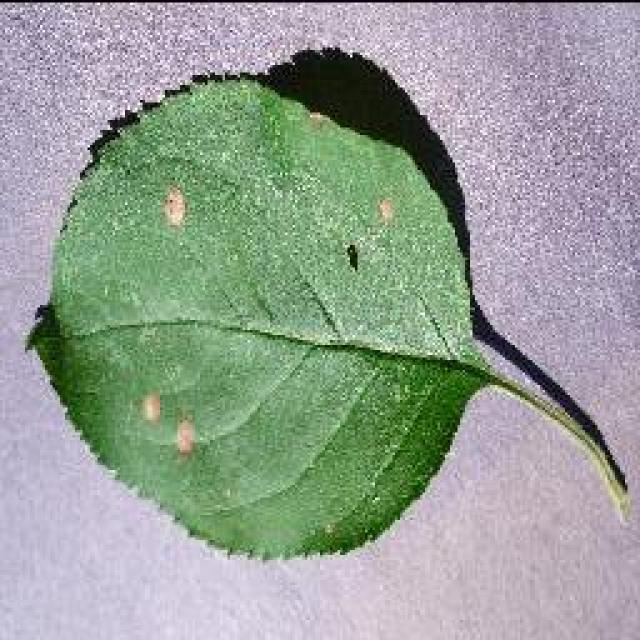Black_rot: (25, 45, 630, 563)
